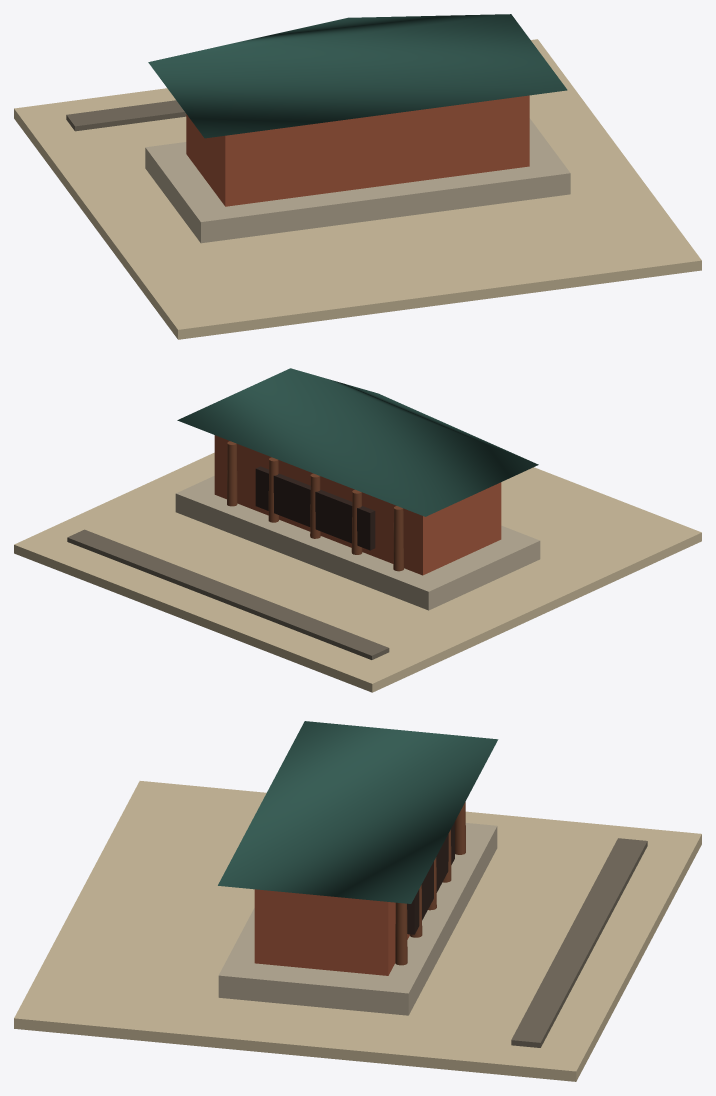
File: model-medium.glb
3 renders of one model, top to bottom at view 1: azimuth 30°, elevation 25°; view 2: azimuth 150°, elevation 25°; view 3: azimuth 270°, elevation 25°, orthographic. The views are drawn at different scales.
Visible parts, largest first — view 1: context_site_plinth, sweeping_tiled_roof, main_hall_wall_volume, raised_ceremonial_platform, front_scale_strip; view 2: context_site_plinth, sweeping_tiled_roof, raised_ceremonial_platform, main_hall_wall_volume, front_scale_strip, central_shadow_door, front_column_1, front_column_5, front_column_3; view 3: context_site_plinth, sweeping_tiled_roof, raised_ceremonial_platform, main_hall_wall_volume, front_scale_strip, central_shadow_door, front_column_5.
Boxes of the visible parts, left/top/right/bottom form: context_site_plinth: left=14, top=39, right=701, bottom=339; sweeping_tiled_roof: left=148, top=14, right=567, bottom=138; main_hall_wall_volume: left=186, top=95, right=529, bottom=206; raised_ceremonial_platform: left=145, top=118, right=570, bottom=243; front_scale_strip: left=66, top=100, right=186, bottom=131; context_site_plinth: left=14, top=452, right=701, bottom=692; sweeping_tiled_roof: left=177, top=368, right=538, bottom=516; raised_ceremonial_platform: left=175, top=476, right=540, bottom=610; main_hall_wall_volume: left=214, top=435, right=501, bottom=575; front_scale_strip: left=67, top=529, right=389, bottom=659; central_shadow_door: left=255, top=466, right=375, bottom=550; front_column_1: left=393, top=506, right=403, bottom=571; front_column_5: left=227, top=441, right=237, bottom=506; front_column_3: left=310, top=473, right=320, bottom=538; context_site_plinth: left=14, top=781, right=701, bottom=1081; sweeping_tiled_roof: left=218, top=721, right=498, bottom=903; raised_ceremonial_platform: left=218, top=823, right=497, bottom=1015; main_hall_wall_volume: left=254, top=889, right=409, bottom=975; front_scale_strip: left=511, top=838, right=647, bottom=1047; central_shadow_door: left=407, top=822, right=454, bottom=934; front_column_5: left=395, top=902, right=407, bottom=965.
Size of the model in its own units: 9.55 by 2.62 by 9.55.
